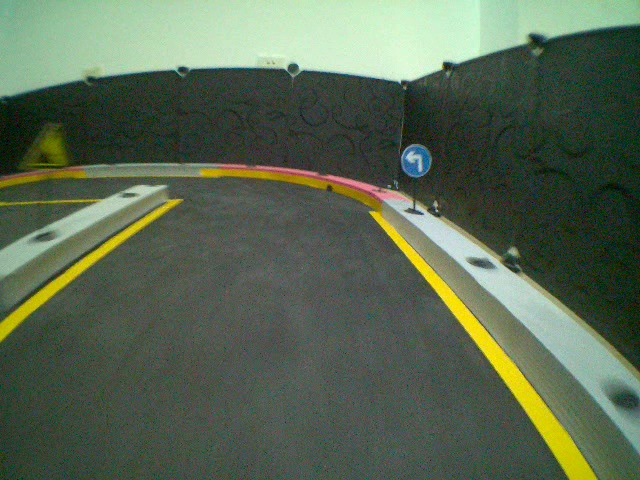fast: (18, 122, 73, 173)
turn: (399, 143, 433, 178)
